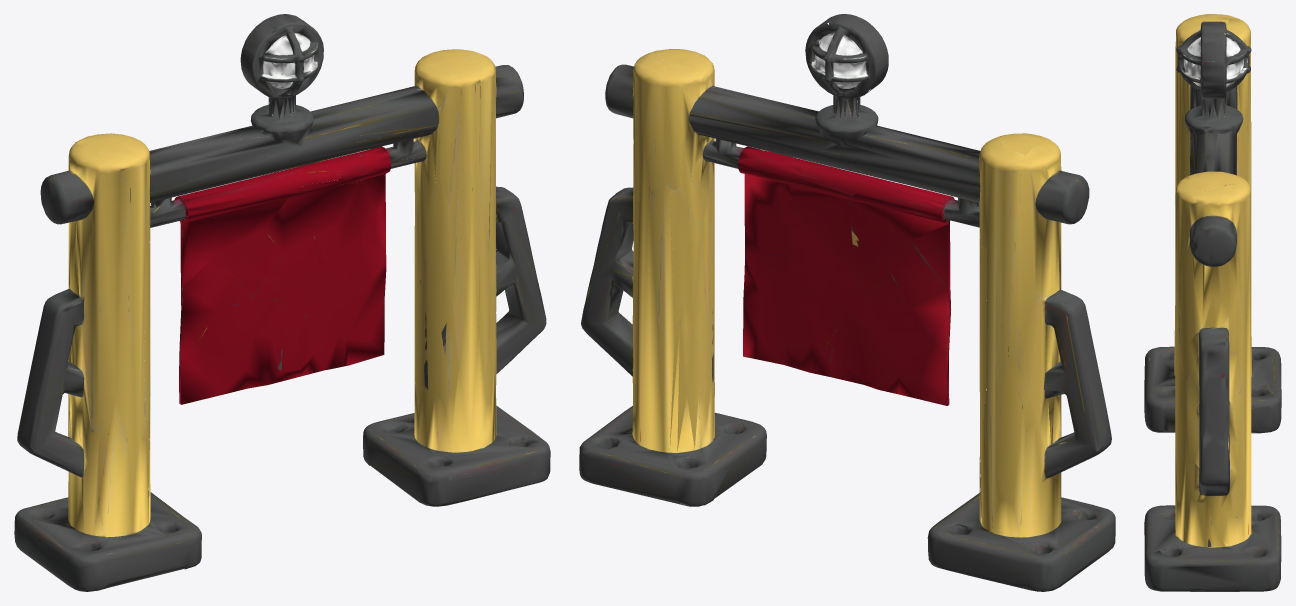
File: flag_big_v2.glb
3 views of the same model, side by side, from view 1: azimuth 30°, elevation 25°; view 2: azimuth 150°, elevation 25°; view 3: azimuth 270°, elevation 25° (orthographic). The views are drawn at different scales.
Parts seen in each view (by area): view 1: pole_geo, banner_p1, lamp_p2; view 2: pole_geo, banner_p1, lamp_p2; view 3: pole_geo, lamp_p2, banner_p1.
Part boxes in pixels (left/top/right/bottom): pole_geo: left=14, top=49, right=550, bottom=591; banner_p1: left=142, top=89, right=461, bottom=518; lamp_p2: left=87, top=14, right=477, bottom=156; pole_geo: left=579, top=49, right=1115, bottom=591; banner_p1: left=669, top=133, right=986, bottom=515; lamp_p2: left=654, top=14, right=1042, bottom=155; pole_geo: left=1144, top=14, right=1281, bottom=591; lamp_p2: left=1176, top=18, right=1251, bottom=191; banner_p1: left=1180, top=85, right=1247, bottom=181.
Bounding box in the file's own units: 4.2 × 3.8 × 1.03.
1 material, 1 textured.
